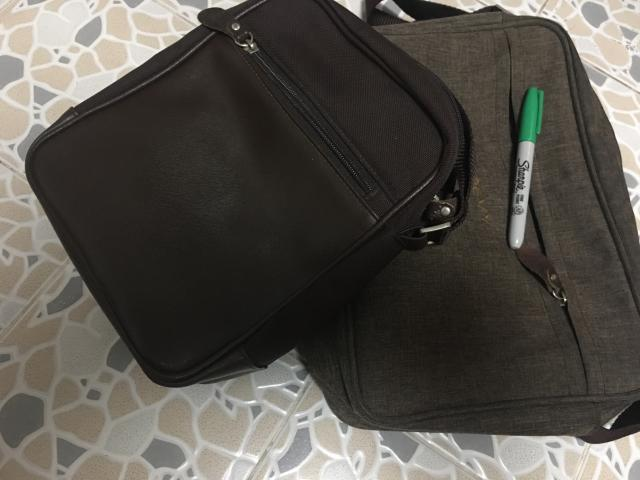Pen: (509, 88, 544, 249)
